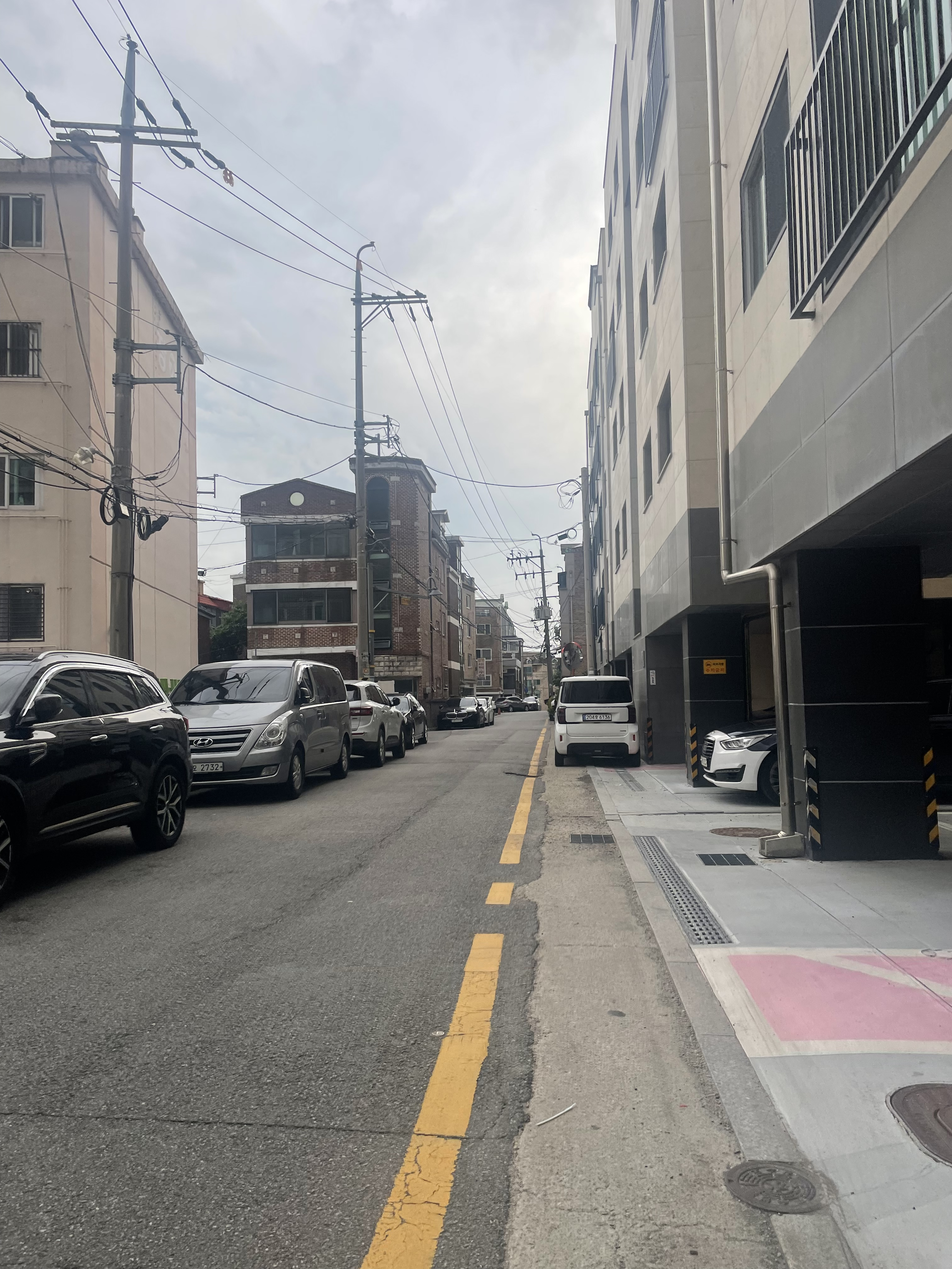car: (0, 651, 191, 900), (172, 659, 351, 798), (554, 676, 639, 766), (700, 720, 779, 804), (346, 680, 406, 766), (388, 693, 428, 748), (437, 696, 484, 729), (477, 696, 496, 726), (497, 696, 528, 712), (523, 696, 539, 711)
